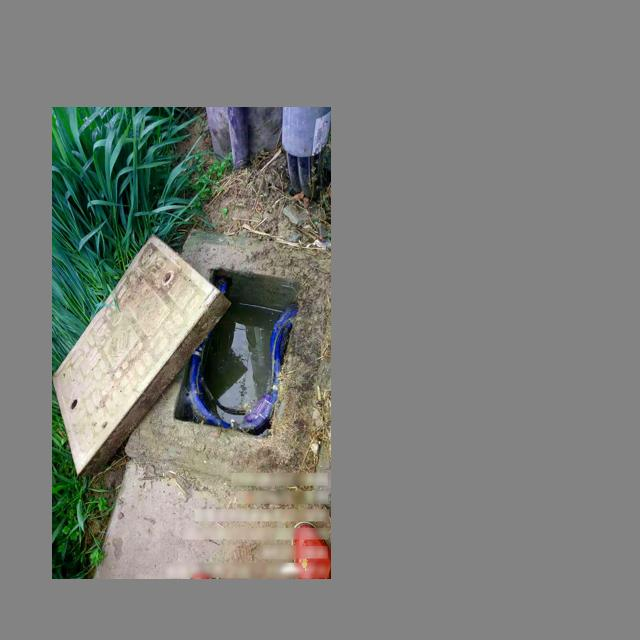uncovered: (53, 229, 329, 483)
